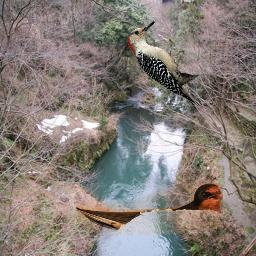Swallow: (76, 182, 223, 235)
Woodpecker: (127, 19, 200, 103)
